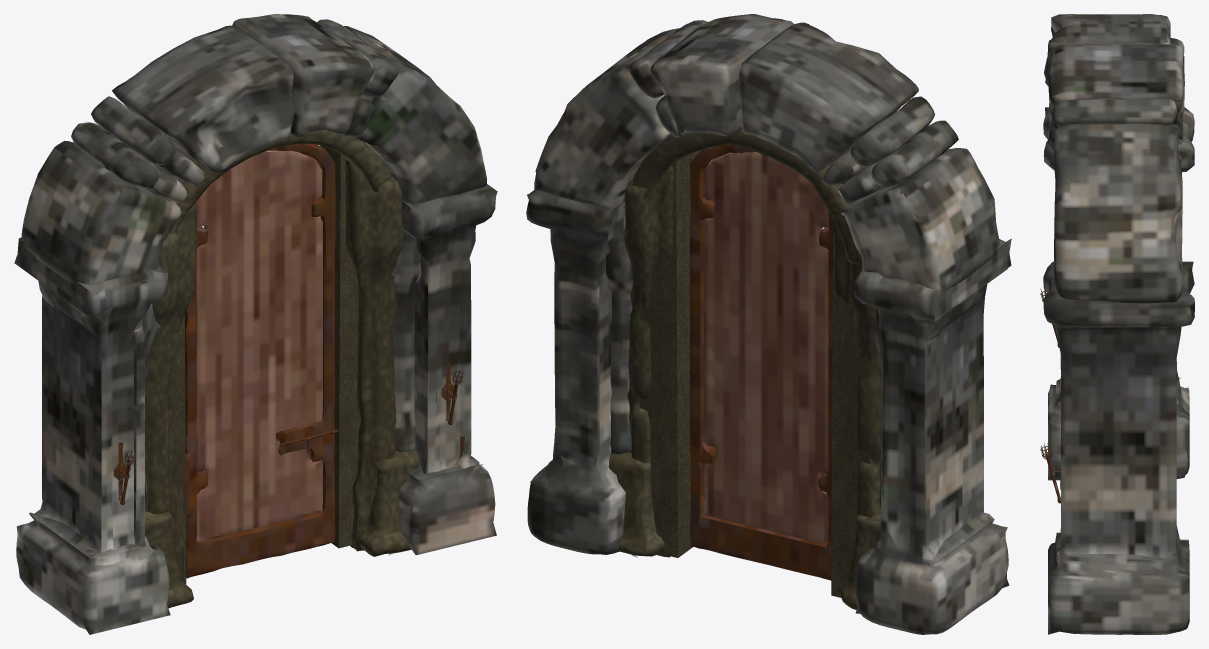
Rendered from Door.fbx.
3 views of the same model, side by side, from view 1: azimuth 30°, elevation 25°; view 2: azimuth 150°, elevation 25°; view 3: azimuth 270°, elevation 25° (orthographic). The views are drawn at different scales.
Parts seen in each view (by area): view 1: Retopo_Plane.002, Retopo_door3-framemetal.002, Retopo_columns.002, Cube.002, Cylinder.002; view 2: Retopo_Plane.002, Retopo_door3-framemetal.002, Cube.002, Retopo_columns.002; view 3: Retopo_Plane.002, Cylinder.002.
Boxes of the visible parts, box(x1,y1,x2,y2) form: Retopo_Plane.002: box(14, 14, 497, 634); Retopo_door3-framemetal.002: box(183, 144, 338, 578); Retopo_columns.002: box(145, 157, 403, 608); Cube.002: box(174, 146, 360, 584); Cylinder.002: box(113, 362, 463, 504); Retopo_Plane.002: box(526, 14, 1011, 634); Retopo_door3-framemetal.002: box(690, 144, 832, 580); Cube.002: box(639, 152, 870, 597); Retopo_columns.002: box(624, 150, 882, 557); Retopo_Plane.002: box(1043, 14, 1194, 634); Cylinder.002: box(1040, 288, 1060, 503).
Size of the model in its own units: 436 by 531 by 147.
